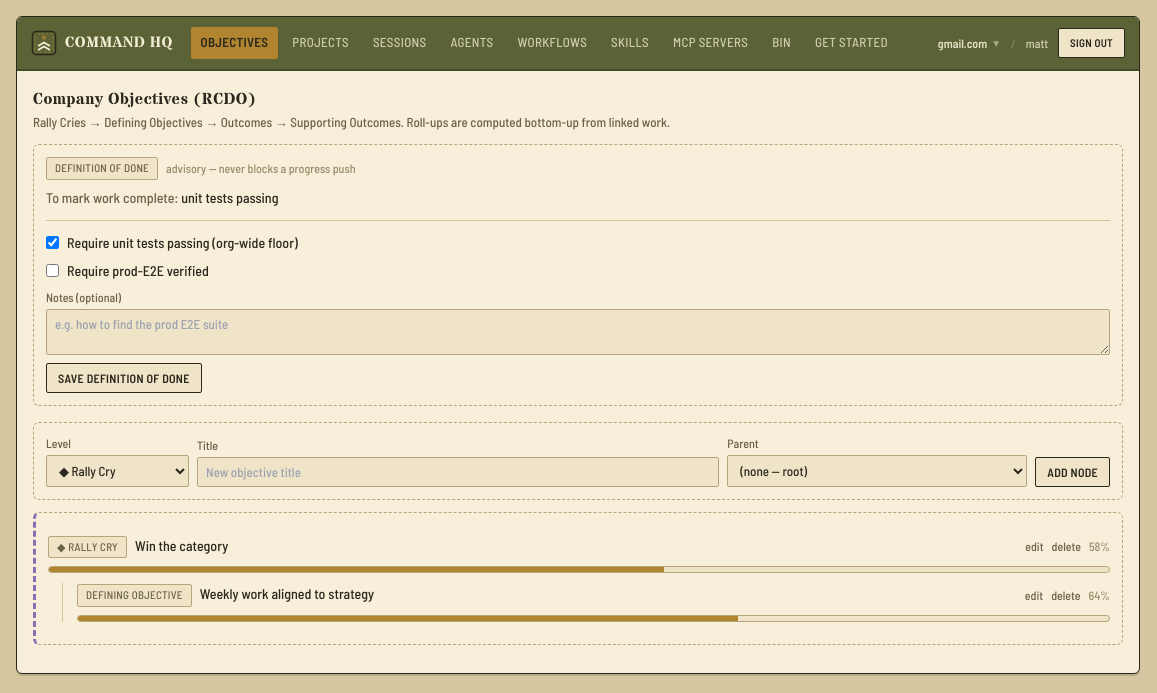
navigation + routing › navigates via the top nav to Projects
This screenshot has width=1157, height=693.
Click the link "Projects".
click(321, 42)  # box [292,34,349,50]
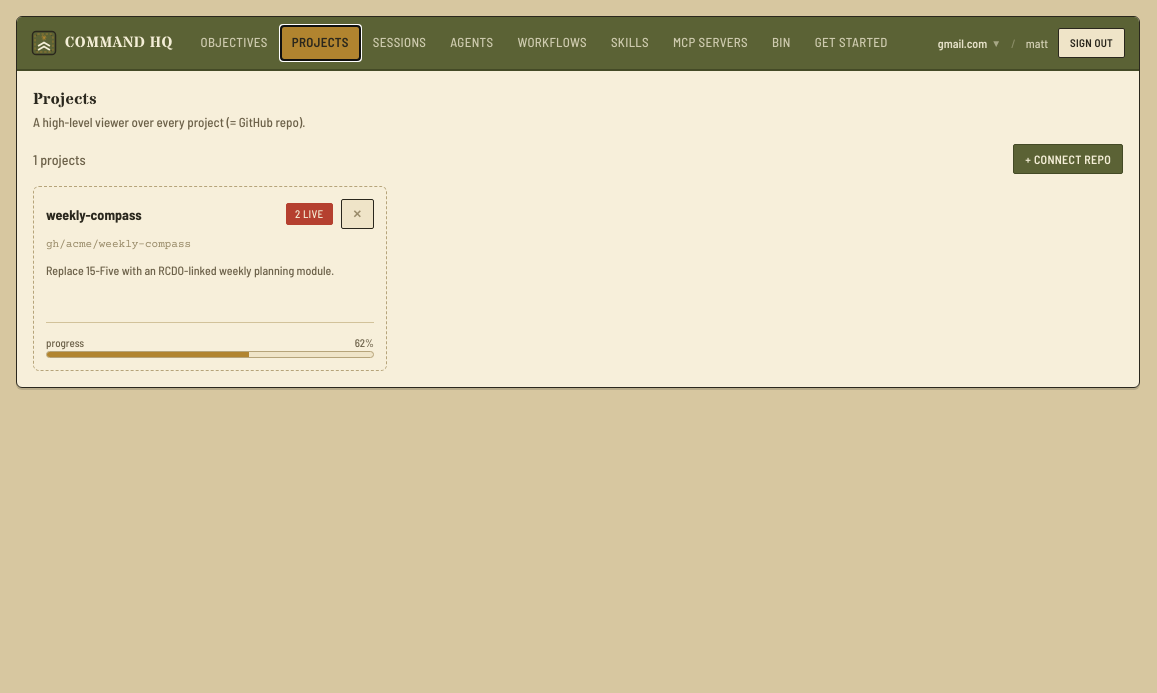
Result: the element with test id "projects-screen" is shown at [17,70,1139,387]
Result: the text "weekly-compass" is shown at [46,204,142,224]
